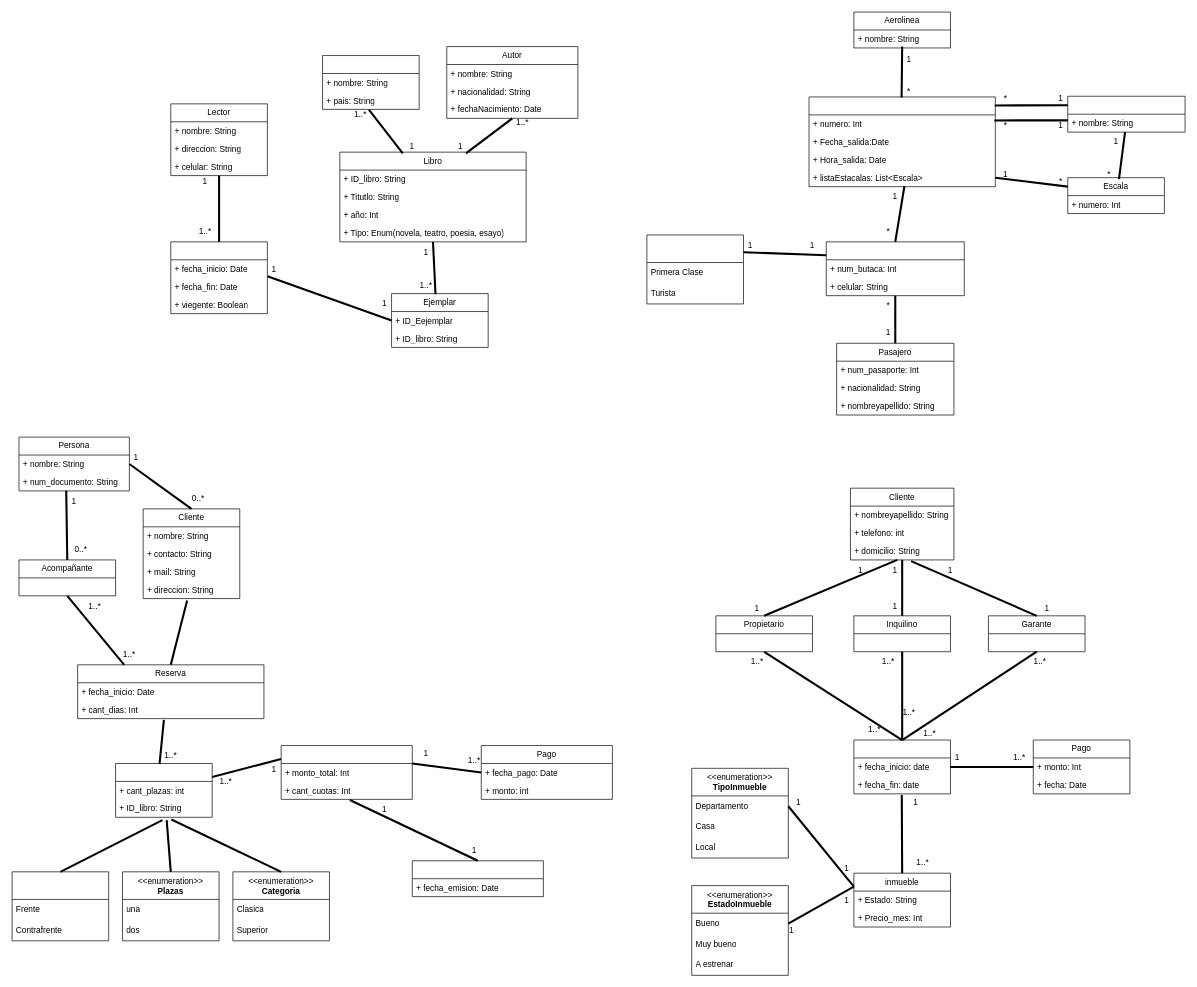
Image size: 1197x987. Some labels were removed from this diagram. Here are the shapes that lost their labels. From the top down, the box of each, then its label:
(322, 55, 419, 109): Editorial
(1067, 96, 1185, 132): Aeropuerto
(808, 96, 995, 187): Vuelo
(170, 241, 267, 314): Prestamo
(646, 234, 743, 304): <<enumeration>> Categorias
(826, 241, 964, 296): Pasaje
(280, 745, 412, 799): PagoEstadia
(853, 739, 950, 794): Contrato
(115, 763, 212, 817): Habitacion
(412, 860, 543, 897): Factura
(11, 871, 109, 941): <<enumeration>> Ubicacion
